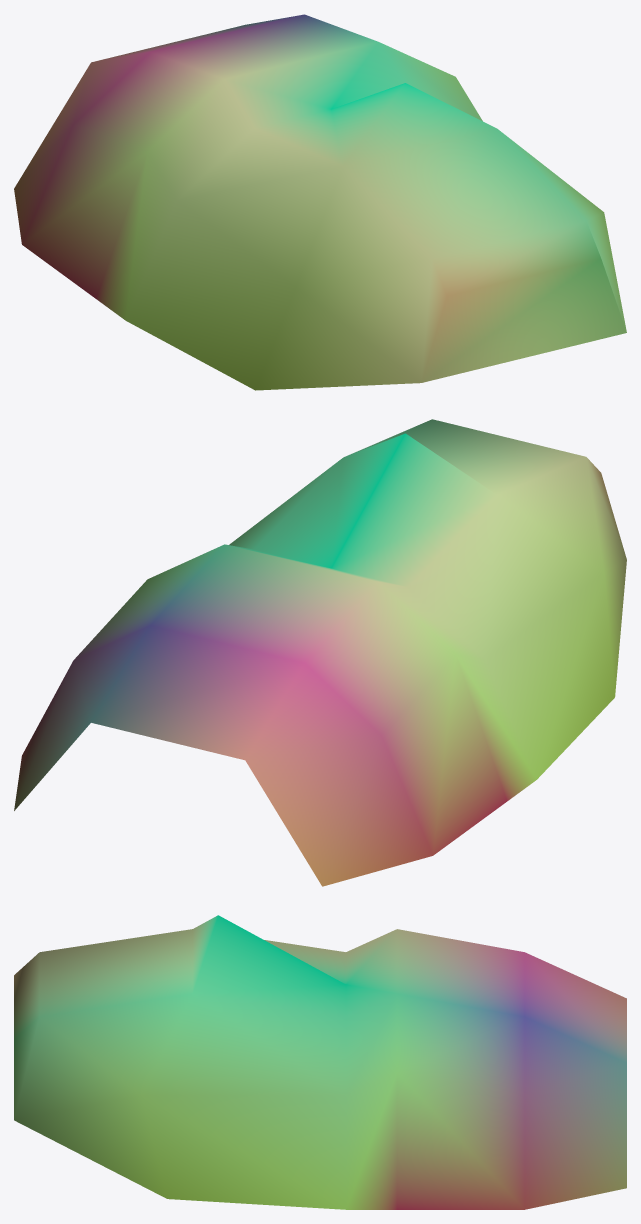
3 renders of one model, top to bottom at view 1: azimuth 30°, elevation 25°; view 2: azimuth 150°, elevation 25°; view 3: azimuth 270°, elevation 25°, orthographic. The views are drawn at different scales.
Visible parts, largest first — view 1: part; view 2: part; view 3: part.
Part boxes in pixels (x1,y1,x2,y2): part: (14, 14, 626, 390); part: (14, 419, 626, 886); part: (14, 915, 626, 1209).
Size of the model in its own units: 16 by 9 by 24.
